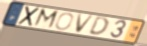3: (108, 20, 128, 40)
D: (87, 17, 110, 37)
M: (32, 7, 61, 30)
O: (53, 12, 75, 31)
V: (75, 13, 96, 34)
X: (16, 5, 42, 28)
